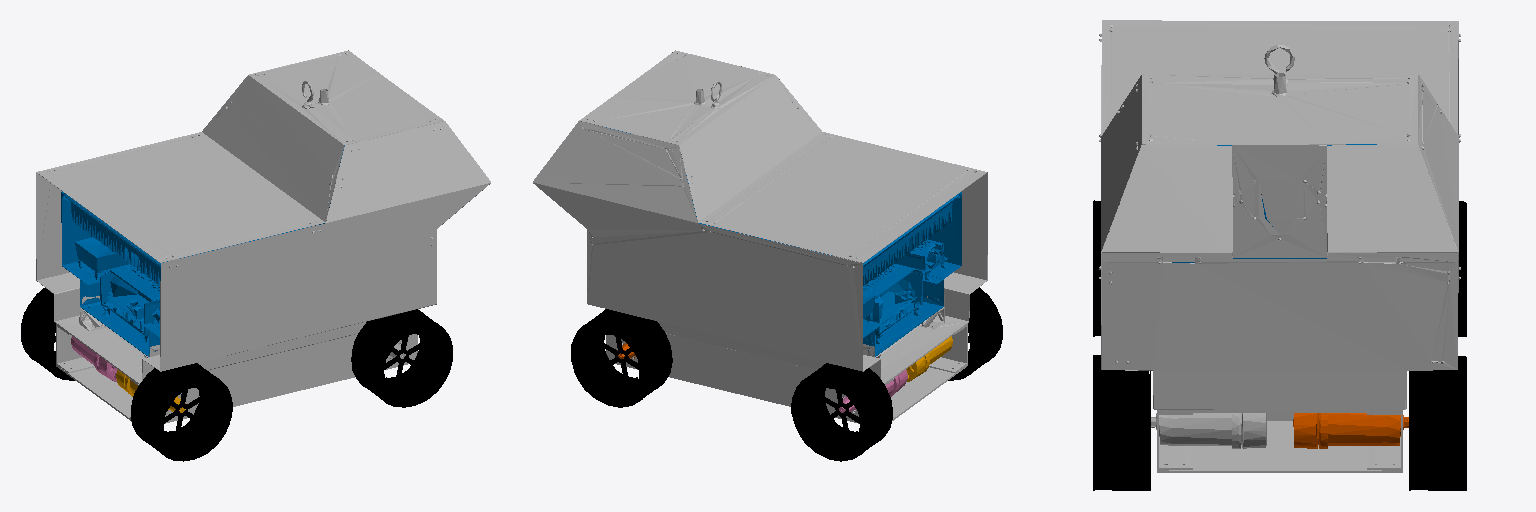
URDF robot description (my_robot):
<?xml version="1.0"?>
<robot name="my_robot">
    
    <material name="blue">
        <color rgba="0 0 0.8 1"/>
    </material>
    <material name="red">
        <color rgba="0.8 0 0 1"/>
    </material>
    <material name="green">
        <color rgba="0 0.8 0 1"/>
    </material>
    <material name="grey">
        <color rgba="0.75 0.75 0.75 1"/>
    </material>
    <material name="white">
        <color rgba="1.0 1.0 1.0 1"/>
    </material>
    <material name="black">
        <color rgba="0 0 0 1"/>
    </material>

    <!--#### ############### ####-->
    <!--#### #### LINKS #### ####-->
    <!--#### ############### ####-->
    
    <link name="base_footprint">
    </link>

    <link name="lower_base_link">
        <inertial>
            <origin xyz="0 0 0" rpy="0 0 0"/>
            <mass value="10.0" />
            <inertia ixx="0.06556" ixy="0.0" ixz="0.0" iyy="0.21315" iyz="0.0" izz="0.2691"/>
        </inertial>
        <collision>
            <origin xyz="0 0 0" rpy="0 0 0"/>
            <geometry>
                <box size="0.5 0.27 0.076"/>
            </geometry>
        </collision>
        <visual>
            <origin rpy="0 0 0" xyz="0 0 0"/>
            <geometry>
                <mesh filename="package://my_robot_description/models/meshes/podwozie.dae" />
            </geometry>
            <material name="grey"/>
        </visual>
    </link>

    <link name="upper_base_link">
        <inertial>
            <origin xyz="0 0 0" rpy="0 0 1.57"/>
            <mass value="25.0" />
            <inertia ixx="0.19814" ixy="0.0" ixz="0.0" iyy="0.3701" iyz="0.0" izz="0.42805"/>
        </inertial>
        <collision>
            <origin xyz="0.0 0.065 0.04" rpy="0 0 1.57"/>
            <geometry>
                <box size="0.5 0.392 0.29"/>
            </geometry>
        </collision>
        <visual>
            <origin rpy="0 0 0" xyz="0 0 0"/>
            <geometry>
                <mesh filename="package://my_robot_description/models/meshes/nadwozie.dae" scale="0.001 0.001 0.001"/>
            </geometry>
            <material name="grey"/>
        </visual>
    </link>

    <link name="head_collision_link">
        <collision>
            <origin xyz="0.0 0.0 0.0" rpy="0 0 1.57"/>
            <geometry>
                <box size="0.3 0.392 0.15"/>
            </geometry>
        </collision>
    </link>

    <link name="inner_body_link">
        <visual>
            <origin rpy="0 0 0" xyz="0 0 0"/>
            <geometry>
                <mesh filename="package://my_robot_description/models/meshes/wewn.dae"/>
            </geometry>
        </visual>
    </link>

    <link name="left_front_motor_link">
        <visual>
            <origin rpy="0 0 0" xyz="0 0 0"/>
            <geometry>
                <mesh filename="package://my_robot_description/models/meshes/naped.dae" scale="10 10 10"/>
            </geometry>
        </visual>
    </link>

    <link name="left_rear_motor_link">
        <visual>
            <origin rpy="0 0 0" xyz="0 0 0"/>
            <geometry>
                <mesh filename="package://my_robot_description/models/meshes/naped.dae" scale="10 10 10"/>
            </geometry>
        </visual>
    </link>

    <link name="right_front_motor_link">
        <visual>
            <origin rpy="0 0 0" xyz="0 0 0"/>
            <geometry>
                <mesh filename="package://my_robot_description/models/meshes/naped.dae" scale="10 10 10"/>
            </geometry>
        </visual>
    </link>

    <link name="right_rear_motor_link">
        <visual>
            <origin rpy="0 0 0" xyz="0 0 0"/>
            <geometry>
                <mesh filename="package://my_robot_description/models/meshes/naped.dae" scale="10 10 10"/>
            </geometry>
        </visual>
    </link>

    <link name="left_front_wheel_link">
        <inertial>
            <origin xyz="0 0 0" rpy="0 1.57 0"/>
            <mass value="4.0" />
            <inertia ixx="0.00699" ixy="0.0" ixz="0.0" iyy="0.00699" iyz="0.0" izz="0.01125"/>
        </inertial>
        <collision>
            <origin xyz="0 0 0" rpy="0 1.57 0"/>
            <geometry>
                <cylinder radius="0.075" length="0.064"/>
            </geometry>
        </collision>
        <visual>
            <origin rpy="0 0 0" xyz="0 0 0"/>
            <geometry>
                <mesh filename="package://my_robot_description/models/meshes/kolo.dae" scale="0.001 0.001 0.001"/>
            </geometry>
            <material name="black"/>
        </visual>
    </link>

    <link name="left_rear_wheel_link">
        <inertial>
            <origin xyz="0 0 0" rpy="0 1.57 0"/>
            <mass value="4.0" />
            <inertia ixx="0.00699" ixy="0.0" ixz="0.0" iyy="0.00699" iyz="0.0" izz="0.01125"/>
        </inertial>
        <collision>
            <origin xyz="0 0 0" rpy="0 1.57 0"/>
            <geometry>
                <cylinder radius="0.075" length="0.064"/>
            </geometry>
        </collision>
        <visual>
            <origin rpy="0 0 0" xyz="0 0 0"/>
            <geometry>
                <mesh filename="package://my_robot_description/models/meshes/kolo.dae" scale="0.001 0.001 0.001"/>
            </geometry>
            <material name="black"/>
        </visual>
    </link>

    <link name="right_front_wheel_link">
        <inertial>
            <origin xyz="0 0 0" rpy="0 1.57 0"/>
            <mass value="4.0" />
            <inertia ixx="0.00699" ixy="0.0" ixz="0.0" iyy="0.00699" iyz="0.0" izz="0.01125"/>
        </inertial>
        <collision>
            <origin xyz="0 0 0" rpy="0 1.57 0"/>
            <geometry>
                <cylinder radius="0.075" length="0.064"/>
            </geometry>
        </collision>
        <visual>
            <origin rpy="0 0 0" xyz="0 0 0"/>
            <geometry>
                <mesh filename="package://my_robot_description/models/meshes/kolo.dae" scale="0.001 0.001 0.001"/>
            </geometry>
            <material name="black"/>
        </visual>
    </link>

    <link name="right_rear_wheel_link">
        <inertial>
            <origin xyz="0 0 0" rpy="0 1.57 0"/>
            <mass value="4.0" />
            <inertia ixx="0.00699" ixy="0.0" ixz="0.0" iyy="0.00699" iyz="0.0" izz="0.01125"/>
        </inertial>
        <collision>
            <origin xyz="0 0 0" rpy="0 1.57 0"/>
            <geometry>
                <cylinder radius="0.075" length="0.064"/>
            </geometry>
        </collision>
        <visual>
            <origin rpy="0 0 0" xyz="0 0 0"/>
            <geometry>
                <mesh filename="package://my_robot_description/models/meshes/kolo.dae" scale="0.001 0.001 0.001"/>
            </geometry>
            <material name="black"/>
        </visual>
    </link>

    <link name="rear_laser_link">
        <inertial>
            <origin xyz="0 0 0" rpy="0 0 0"/>
            <mass value="0.37" />
            <inertia ixx="0.0003444" ixy="0.0" ixz="0.0" iyy="0.0003444" iyz="0.0" izz="0.000222"/>
        </inertial>
        <collision>
            <origin xyz="0 0 0.0435" rpy="0 0 0"/>
            <geometry>
                <box size="0.06 0.06 0.087"/>
            </geometry>
        </collision>
        <visual>
            <origin rpy="0 0 1.57" xyz="0 0 0"/>
            <geometry>
                <mesh filename="package://my_robot_description/models/meshes/lidar.dae"/>
            </geometry>
            <material name="red"/>
        </visual>
    </link>

    <link name="front_laser_link">
        <inertial>
            <origin xyz="0 0 0" rpy="0 0 0"/>
            <mass value="0.37" />
            <inertia ixx="0.0003444" ixy="0.0" ixz="0.0" iyy="0.0003444" iyz="0.0" izz="0.000222"/>
        </inertial>
        <collision>
            <origin xyz="0 0 0.0435" rpy="0 0 0"/>
            <geometry>
                <box size="0.06 0.06 0.087"/>
            </geometry>
        </collision>
        <visual>
            <origin rpy="0 0 1.57" xyz="0 0 0"/>
            <geometry>
                <mesh filename="package://my_robot_description/models/meshes/lidar.dae"/>
            </geometry>
            <material name="red"/>
        </visual>
    </link>

    <!--#### ################ ####-->
    <!--#### #### JOINTS #### ####-->
    <!--#### ################ ####-->

    <joint name="lower_base_joint" type="fixed">
        <parent link="base_footprint"/>
        <child link="lower_base_link"/>
        <origin xyz="0.0 0.0 0.075" rpy="0 0 0" />
    </joint>

    <joint name="upper_base_joint" type="fixed">
        <parent link="lower_base_link"/>
        <child link="upper_base_link"/>
        <origin xyz="0.065 0 0.193" rpy="0 0 1.57" />
    </joint>
        
    <joint name="head_collision_joint" type="fixed">
        <parent link="upper_base_link"/>
        <child link="head_collision_link"/>
        <origin xyz="0.0 -0.14 0.12" rpy="0 0 0" />
    </joint>

    <joint name="inner_body_joint" type="fixed">
        <parent link="upper_base_link"/>
        <child link="inner_body_link"/>
        <origin xyz="0.0 0.085 -0.01" rpy="0 0 -1.57" />
    </joint>

    <joint name="left_front_motor_joint" type="fixed">
        <parent link="lower_base_link"/>
        <child link="left_front_motor_link"/>
        <origin xyz="0.2 0.082 0.0" rpy="0 0 -1.57"/>
    </joint>

    <joint name="left_rear_motor_joint" type="fixed">
        <parent link="lower_base_link"/>
        <child link="left_rear_motor_link"/>
        <origin xyz="-0.2 0.082 0.0" rpy="3.14 0 -1.57"/>
    </joint>

    <joint name="right_front_motor_joint" type="fixed">
        <parent link="lower_base_link"/>
        <child link="right_front_motor_link"/>
        <origin xyz="0.2 -0.082 0.0" rpy="3.14 0 1.57"/>
    </joint>
    
    <joint name="right_rear_motor_joint" type="fixed">
        <parent link="lower_base_link"/>
        <child link="right_rear_motor_link"/>
        <origin xyz="-0.2 -0.082 0.0" rpy="0 0 1.57"/>
    </joint>

    <joint name="left_front_wheel_joint" type="continuous">
        <parent link="lower_base_link"/>
        <child link="left_front_wheel_link"/>
        <origin xyz="0.2 0.173 0.0" rpy="0 0 1.57"/>
        <axis xyz="1 0 0"/>
        <limit effort="100" velocity="100"/>
        <joint_properties damping="0.0" friction="0.0"/>
    </joint>

    <joint name="left_rear_wheel_joint" type="continuous">
        <parent link="lower_base_link"/>
        <child link="left_rear_wheel_link"/>
        <origin xyz="-0.2 0.173 0.0" rpy="0 0 1.57"/>
        <axis xyz="1 0 0"/>
        <limit effort="100" velocity="100"/>
        <joint_properties damping="0.0" friction="0.0"/>
    </joint>

    <joint name="right_front_wheel_joint" type="continuous">
        <parent link="lower_base_link"/>
        <child link="right_front_wheel_link"/>
        <origin xyz="0.2 -0.173 0.0" rpy="0 0 1.57"/>
        <axis xyz="1 0 0"/>
        <limit effort="100" velocity="100"/>
        <joint_properties damping="0.0" friction="0.0"/>
    </joint>

    <joint name="right_rear_wheel_joint" type="continuous">
        <parent link="lower_base_link"/>
        <child link="right_rear_wheel_link"/>
        <origin xyz="-0.2 -0.173 0.0" rpy="0 0 1.57"/>
        <axis xyz="1 0 0"/>
        <limit effort="100" velocity="100"/>
        <joint_properties damping="0.0" friction="0.0"/>
    </joint>

    <joint name="rear_laser_joint" type="fixed">
        <parent link="upper_base_link"/>
        <child link="rear_laser_link"/>
        <origin xyz="0.205 0.3465 -0.105" rpy="0 0 0" />
    </joint>

    <joint name="front_laser_joint" type="fixed">
        <parent link="upper_base_link"/>
        <child link="front_laser_link"/>
        <origin xyz="-0.205 -0.2155 -0.105" rpy="0 0 3.14159" />
    </joint>

    <!--#### ######################## ####-->
    <!--#### #### GAZEBO PLUGINS #### ####-->
    <!--#### ######################## ####-->

    <gazebo>
        <plugin name="gazebo_ros_control" filename="libgazebo_ros_control.so">
            <robotNamespace>/my_robot</robotNamespace>
        </plugin>
    </gazebo>

    <gazebo reference="lower_base_link">
        <kp>100000.0</kp>
        <kd>10.0</kd>
        <mu1>10.0</mu1>
        <mu2>10.0</mu2>
        <material>Gazebo/Grey</material>
    </gazebo>

    <gazebo reference="upper_base_link">
        <kp>100000.0</kp>
        <kd>10.0</kd>
        <mu1>10.0</mu1>
        <mu2>10.0</mu2>
        <material>Gazebo/Grey</material>
    </gazebo>

    <gazebo reference="head_collision_link">
    </gazebo>

    <gazebo reference="inner_body_link">
        <material>Gazebo/Gold</material>
    </gazebo>

    <gazebo reference="left_front_motor_link">
        <material>Gazebo/Blue</material>
    </gazebo>

    <gazebo reference="left_rear_motor_link">
        <material>Gazebo/Blue</material>
    </gazebo>

    <gazebo reference="right_front_motor_link">
        <material>Gazebo/Blue</material>
    </gazebo>

    <gazebo reference="right_rear_motor_link">
        <material>Gazebo/Blue</material>
    </gazebo>

    <gazebo reference="left_front_wheel_link">
      <mu1 value="1.0"/>
      <mu2 value="1.0"/>
      <kp  value="10000000.0" />
      <kd  value="1.0" />
      <material>Gazebo/DarkGrey</material>
      <turnGravityOff>false</turnGravityOff>
    </gazebo>

    <gazebo reference="left_rear_wheel_link">
      <mu1 value="1.0"/>
      <mu2 value="1.0"/>
      <kp  value="10000000.0" />
      <kd  value="1.0" />
      <material>Gazebo/DarkGrey</material>
      <turnGravityOff>false</turnGravityOff>
    </gazebo>

    <gazebo reference="right_front_wheel_link">
      <mu1 value="1.0"/>
      <mu2 value="1.0"/>
      <kp  value="10000000.0" />
      <kd  value="1.0" />
      <material>Gazebo/DarkGrey</material>
      <turnGravityOff>false</turnGravityOff>
    </gazebo>

    <gazebo reference="right_rear_wheel_link">
      <mu1 value="1.0"/>
      <mu2 value="1.0"/>
      <kp  value="10000000.0" />
      <kd  value="1.0" />
      <material>Gazebo/DarkGrey</material>
      <turnGravityOff>false</turnGravityOff>
    </gazebo>

    <gazebo reference="rear_laser_link">
        <sensor type="ray" name="rear_hokuyo_sensor">
        <pose>0 0 0 0 0 0</pose>
        <visualize>false</visualize>
        <update_rate>20</update_rate>
        <ray>
            <scan>
            <horizontal>
                <samples>540</samples>
                <resolution>1</resolution>
                <min_angle>-1.570796</min_angle>
                <max_angle>3.141592</max_angle>
            </horizontal>
            </scan>
            <range>
                <min>0.10</min>
                <max>15.0</max>
                <resolution>0.01</resolution>
            </range>
            <noise>
                <type>gaussian</type>
                <mean>0.0</mean>
                <stddev>0.01</stddev>
            </noise>
        </ray>
        <plugin name="gazebo_ros_head_hokuyo_controller" filename="libgazebo_ros_laser.so">
            <topicName>my_robot/rear_laser_scan</topicName>
            <frameName>rear_laser_link</frameName>
        </plugin>
        </sensor>
    </gazebo>

    <gazebo reference="front_laser_link">
        <sensor type="ray" name="front_hokuyo_sensor">
        <pose>0 0 0 0 0 0</pose>
        <visualize>false</visualize>
        <update_rate>30</update_rate>
        <ray>
            <scan>
            <horizontal>
                <samples>540</samples>
                <resolution>1</resolution>
                <min_angle>-1.570796</min_angle>
                <max_angle>3.141592</max_angle>
            </horizontal>
            </scan>
            <range>
                <min>0.10</min>
                <max>15.0</max>
                <resolution>0.01</resolution>
            </range>
            <noise>
                <type>gaussian</type>
                <mean>0.0</mean>
                <stddev>0.01</stddev>
            </noise>
        </ray>
        <plugin name="gazebo_ros_head_hokuyo_controller" filename="libgazebo_ros_laser.so">
            <topicName>/my_robot/front_laser_scan</topicName>
            <frameName>front_laser_link</frameName>
        </plugin>
        </sensor>
    </gazebo>

    <!--#### ####################### ####-->
    <!--#### #### TRANSMISSIONS #### ####-->
    <!--#### ####################### ####-->

    <transmission name="tran1">
        <type>transmission_interface/SimpleTransmission</type>
        <joint name="left_front_wheel_joint">
            <hardwareInterface>hardware_interface/VelocityJointInterface</hardwareInterface>
        </joint>
        <actuator name="motor1">
            <hardwareInterface>hardware_interface/VelocityJointInterface</hardwareInterface>
            <mechanicalReduction>1</mechanicalReduction>
        </actuator>
    </transmission>

    <transmission name="tran2">
        <type>transmission_interface/SimpleTransmission</type>
        <joint name="left_rear_wheel_joint">
            <hardwareInterface>hardware_interface/VelocityJointInterface</hardwareInterface>
        </joint>
        <actuator name="motor2">
            <hardwareInterface>hardware_interface/VelocityJointInterface</hardwareInterface>
            <mechanicalReduction>1</mechanicalReduction>
        </actuator>
    </transmission>

    <transmission name="tran3">
        <type>transmission_interface/SimpleTransmission</type>
        <joint name="right_front_wheel_joint">
            <hardwareInterface>hardware_interface/VelocityJointInterface</hardwareInterface>
        </joint>
        <actuator name="motor3">
            <hardwareInterface>hardware_interface/VelocityJointInterface</hardwareInterface>
            <mechanicalReduction>1</mechanicalReduction>
        </actuator>
    </transmission>

    <transmission name="tran4">
        <type>transmission_interface/SimpleTransmission</type>
        <joint name="right_rear_wheel_joint">
            <hardwareInterface>hardware_interface/VelocityJointInterface</hardwareInterface>
        </joint>
        <actuator name="motor4">
            <hardwareInterface>hardware_interface/VelocityJointInterface</hardwareInterface>
            <mechanicalReduction>1</mechanicalReduction>
        </actuator>
    </transmission>
</robot>

--- Render facts (derived) ---
3 views of the same robot in one strip: view 1: azimuth 30°, elevation 25°; view 2: azimuth 150°, elevation 25°; view 3: azimuth 270°, elevation 25° (orthographic).
Model my_robot with 15 links and 14 joints (4 continuous, 10 fixed), rooted at base_footprint, posed every joint at zero.
Links seen in each view (by area): view 1: upper_base_link, inner_body_link, lower_base_link, right_rear_wheel_link, right_front_wheel_link, left_rear_wheel_link, left_rear_motor_link; view 2: upper_base_link, inner_body_link, lower_base_link, left_rear_wheel_link, left_front_wheel_link, right_rear_wheel_link, right_rear_motor_link; view 3: upper_base_link, lower_base_link, left_front_wheel_link, right_front_wheel_link, right_front_motor_link, left_front_motor_link, left_rear_wheel_link, right_rear_wheel_link.
Link boxes in pixels (bbox=[...]): upper_base_link: bbox=[36, 50, 490, 384]; inner_body_link: bbox=[61, 146, 344, 356]; lower_base_link: bbox=[56, 324, 417, 423]; right_rear_wheel_link: bbox=[131, 363, 232, 461]; right_front_wheel_link: bbox=[351, 309, 452, 407]; left_rear_wheel_link: bbox=[21, 288, 74, 380]; left_rear_motor_link: bbox=[71, 336, 117, 381]; upper_base_link: bbox=[533, 50, 987, 383]; inner_body_link: bbox=[606, 127, 961, 356]; lower_base_link: bbox=[606, 324, 967, 423]; left_rear_wheel_link: bbox=[791, 363, 892, 461]; left_front_wheel_link: bbox=[571, 309, 672, 407]; right_rear_wheel_link: bbox=[948, 287, 1002, 380]; right_rear_motor_link: bbox=[906, 336, 952, 381]; upper_base_link: bbox=[1099, 20, 1460, 409]; lower_base_link: bbox=[1157, 410, 1402, 472]; left_front_wheel_link: bbox=[1409, 356, 1466, 490]; right_front_wheel_link: bbox=[1093, 355, 1150, 490]; right_front_motor_link: bbox=[1151, 413, 1266, 448]; left_front_motor_link: bbox=[1293, 413, 1408, 448]; left_rear_wheel_link: bbox=[1458, 201, 1466, 336]; right_rear_wheel_link: bbox=[1093, 200, 1100, 336].
Size in the robot's own frame: 0.624 by 0.4101 by 0.4975 metres.
11 mesh visuals loaded from 6 distinct referenced files (5 Collada DAE); not drawn: 2 (reference not matched to a file when rendering).
